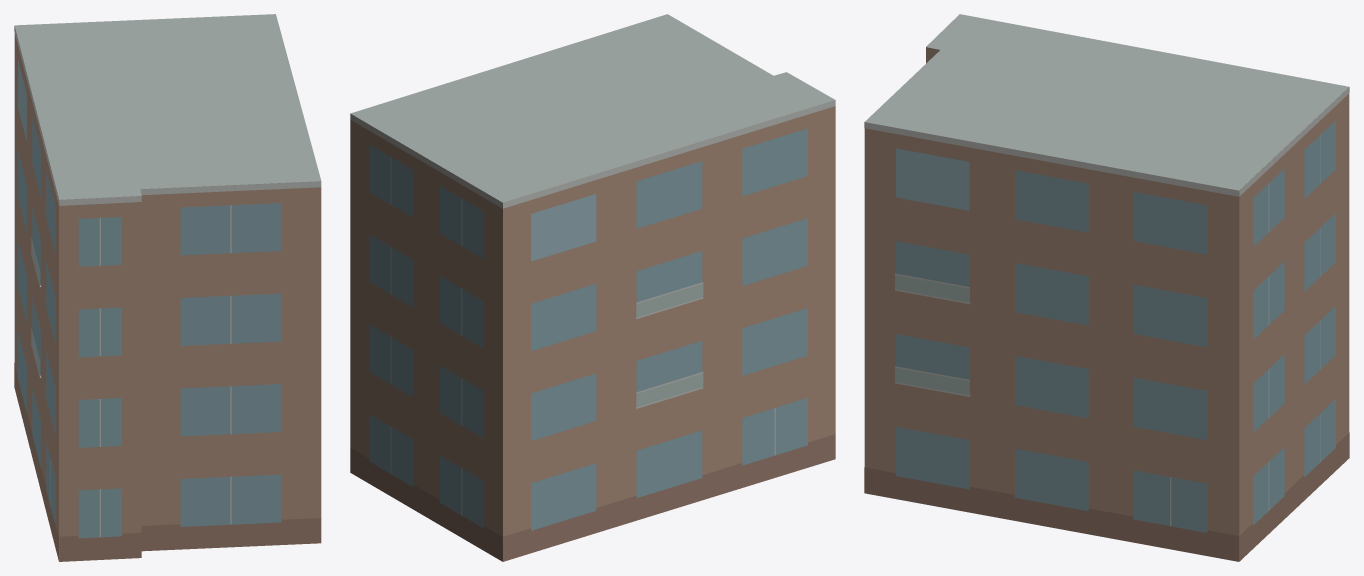
The model's file is survey-upis-32987909.glb.
3 renders of one model, left to right at view 1: azimuth 30°, elevation 25°; view 2: azimuth 150°, elevation 25°; view 3: azimuth 270°, elevation 25°, orthographic. The views are drawn at different scales.
Visible parts, largest first — view 1: survey-upis-32987909.tmp; view 2: survey-upis-32987909.tmp; view 3: survey-upis-32987909.tmp.
Part boxes in pixels (bbox=[...]): survey-upis-32987909.tmp: bbox=[14, 14, 321, 561]; survey-upis-32987909.tmp: bbox=[350, 14, 835, 561]; survey-upis-32987909.tmp: bbox=[864, 14, 1349, 561].
Size of the model in its own units: 14.91 by 14.6 by 17.3.
